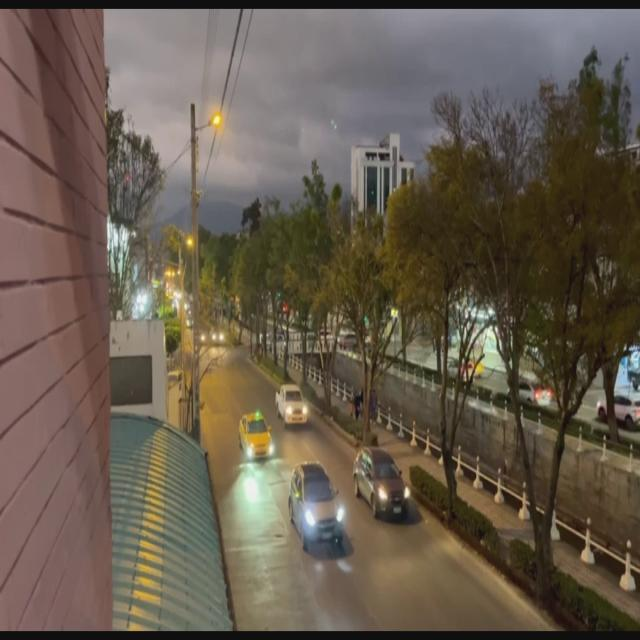CMT: (276, 384, 307, 425)
SED: (240, 418, 272, 459)
SUV: (290, 468, 340, 552), (354, 452, 408, 517)
